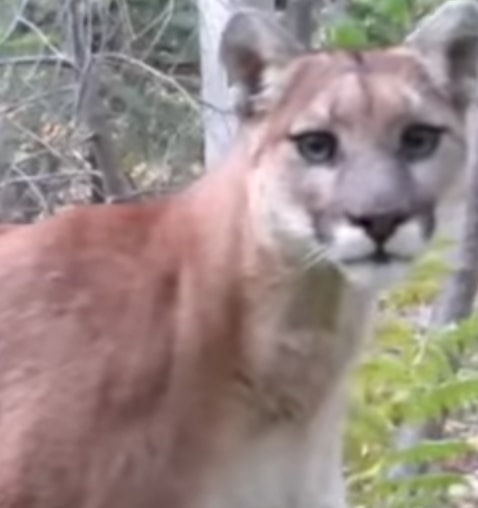Mountain Lion: (7, 4, 469, 496)
